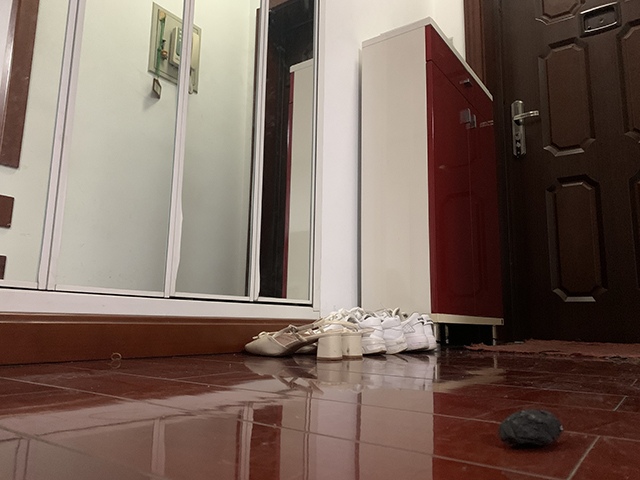cabinet: (358, 14, 507, 344)
carpet: (461, 338, 640, 365)
feces: (498, 407, 563, 449)
